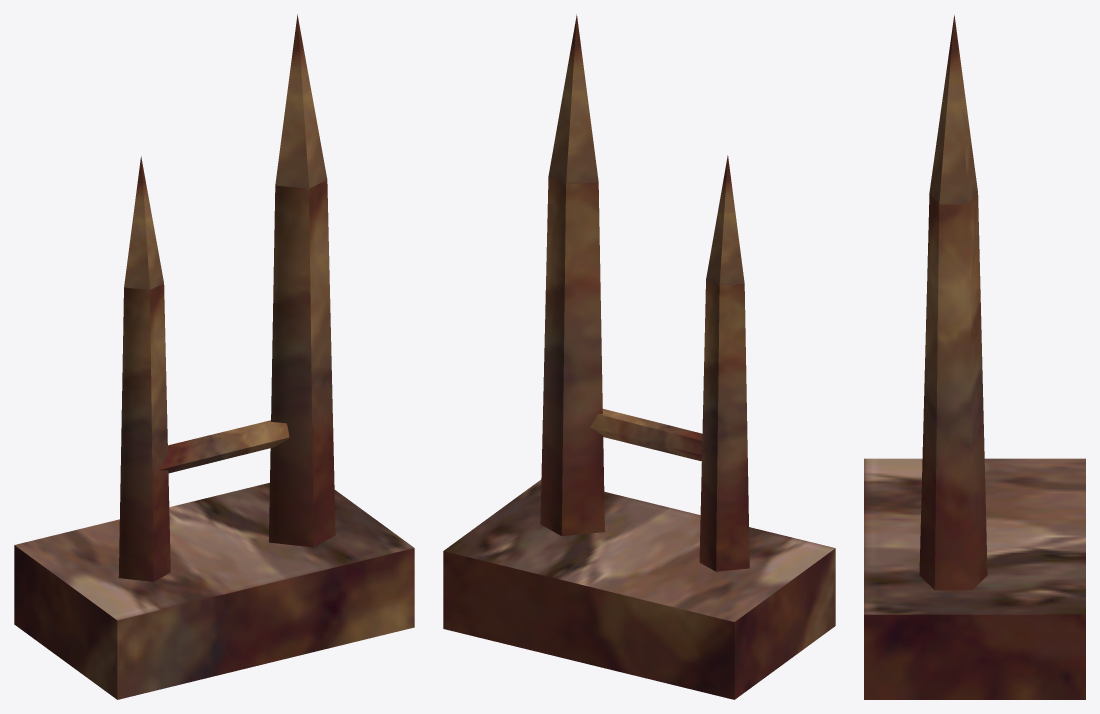
File: Scene_shizhu_004.FBX
3 views of the same model, side by side, from view 1: azimuth 30°, elevation 25°; view 2: azimuth 150°, elevation 25°; view 3: azimuth 270°, elevation 25° (orthographic). The views are drawn at different scales.
Visible parts, largest first — view 1: Scene_shizhu_004; view 2: Scene_shizhu_004; view 3: Scene_shizhu_004.
Boxes of the visible parts, x1,y1,x2,y2 form: Scene_shizhu_004: (14, 14, 414, 699); Scene_shizhu_004: (443, 14, 835, 699); Scene_shizhu_004: (864, 15, 1085, 699).
Bounding box in the file's own units: 1.85 × 3.57 × 1.11.
